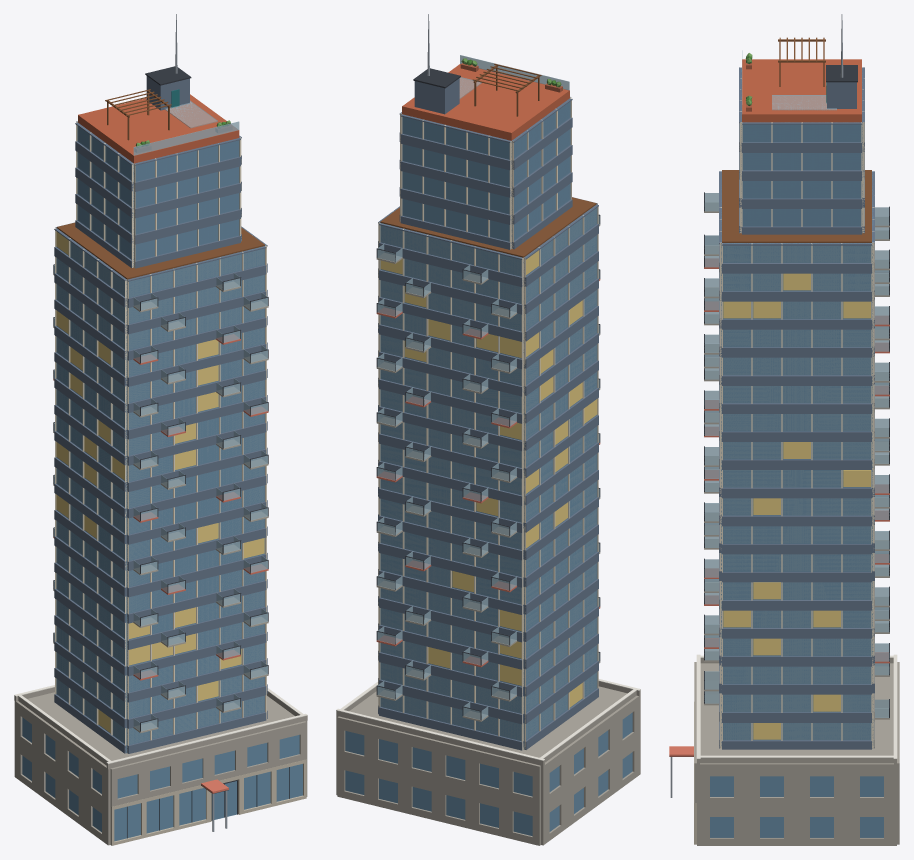
The model's file is BUILDING_05.obj.
3 views of the same model, side by side, from view 1: azimuth 30°, elevation 25°; view 2: azimuth 150°, elevation 25°; view 3: azimuth 270°, elevation 25° (orthographic). The views are drawn at different scales.
Parts seen in each view (by area): view 1: facade_floor02, facade_floor20, mullions, balconies, walls_floor01, crown, podium, storefront_glass, windows_floor01, facade_floor19, facade_floor05, storefront (+26 smaller); view 2: facade_floor02, walls_floor01, mullions, facade_floor20, balconies, crown, walls_floor00, podium, facade_floor16, facade_floor19, windows_floor01, windows_floor00 (+22 smaller); view 3: facade_floor02, balconies, facade_floor20, walls_floor01, mullions, podium, crown, walls_floor00, facade_floor17, terrace, facade_floor06, facade_floor19 (+22 smaller).
Boxes of the visible parts, left/top/right/bottom form: facade_floor02: left=54, top=231, right=267, bottom=753; facade_floor20: left=75, top=126, right=241, bottom=268; mullions: left=55, top=121, right=266, bottom=747; balconies: left=53, top=264, right=268, bottom=733; walls_floor01: left=14, top=701, right=307, bottom=818; crown: left=78, top=94, right=239, bottom=163; podium: left=14, top=685, right=307, bottom=768; storefront_glass: left=114, top=764, right=302, bottom=841; windows_floor01: left=22, top=717, right=299, bottom=798; facade_floor19: left=54, top=222, right=267, bottom=307; facade_floor05: left=54, top=615, right=267, bottom=676; storefront: left=110, top=759, right=306, bottom=845; facade_floor02: left=378, top=206, right=598, bottom=750; walls_floor01: left=336, top=695, right=640, bottom=817; mullions: left=378, top=97, right=598, bottom=750; facade_floor20: left=399, top=101, right=572, bottom=249; balconies: left=376, top=214, right=600, bottom=721; crown: left=402, top=64, right=569, bottom=140; walls_floor00: left=336, top=746, right=640, bottom=845; podium: left=336, top=679, right=640, bottom=766; facade_floor16: left=378, top=300, right=598, bottom=368; facade_floor19: left=378, top=197, right=598, bottom=287; windows_floor01: left=345, top=712, right=632, bottom=796; windows_floor00: left=345, top=752, right=632, bottom=836; facade_floor02: left=719, top=171, right=874, bottom=749; balconies: left=704, top=192, right=889, bottom=719; facade_floor20: left=739, top=69, right=864, bottom=234; walls_floor01: left=694, top=662, right=899, bottom=816; mullions: left=719, top=67, right=874, bottom=748; podium: left=696, top=654, right=897, bottom=764; crown: left=742, top=59, right=861, bottom=122; walls_floor00: left=697, top=816, right=899, bottom=845; facade_floor17: left=719, top=300, right=874, bottom=329; terrace: left=722, top=170, right=871, bottom=242; facade_floor06: left=719, top=609, right=874, bottom=638; facade_floor19: left=719, top=171, right=874, bottom=273.
Bounding box in the file's own units: 24.6 × 88.23 × 23.08.
